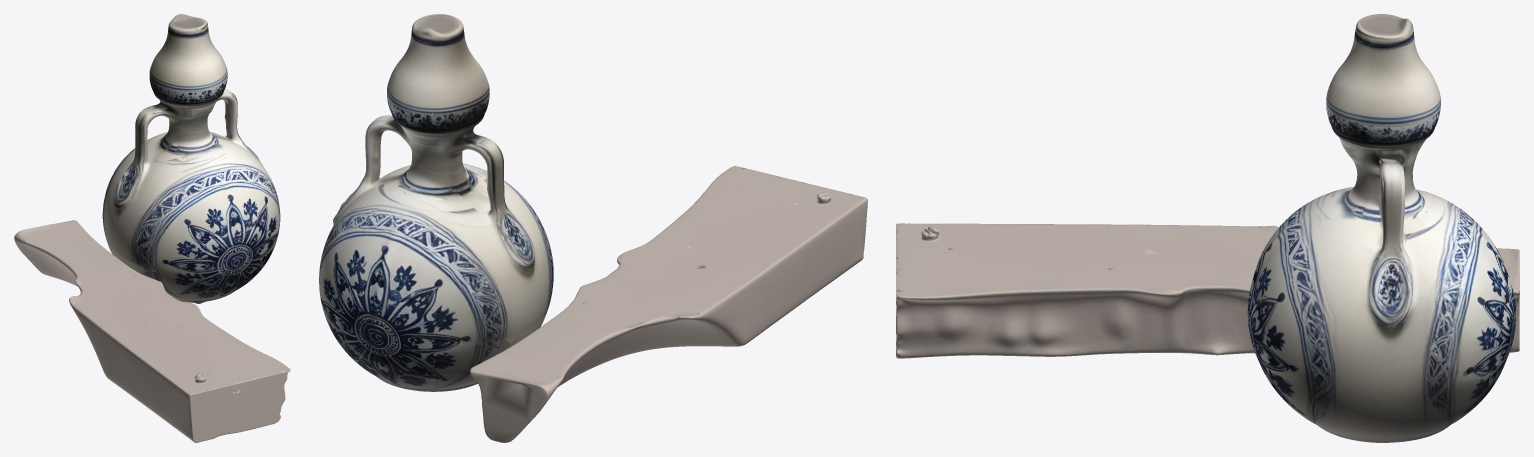
File: yongle-blue-white-flask.lod.glb
The picture shows the model from 3 angles, left to right: view 1: azimuth 30°, elevation 25°; view 2: azimuth 150°, elevation 25°; view 3: azimuth 270°, elevation 25°; orthographic projection. The views are drawn at different scales.
Parts seen in each view (by area): view 1: node_0; view 2: node_0; view 3: node_0.
Part boxes in pixels (x1,y1,x2,y2): node_0: (14, 14, 290, 442); node_0: (319, 14, 867, 442); node_0: (896, 14, 1519, 442).
Bounding box in the file's own units: 0.5812 × 0.6125 × 0.8777.
1 material, 1 textured.
